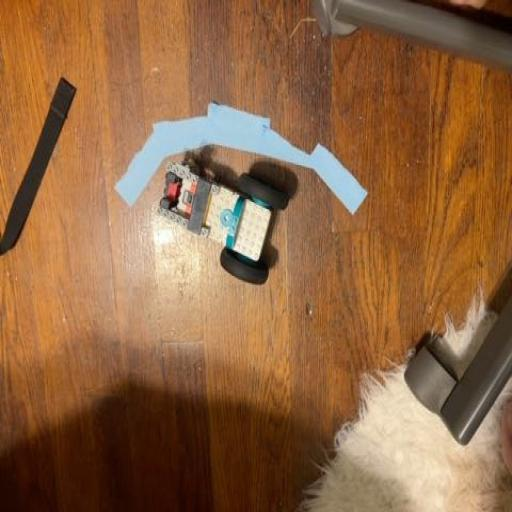Opponent: (158, 149, 296, 291)
